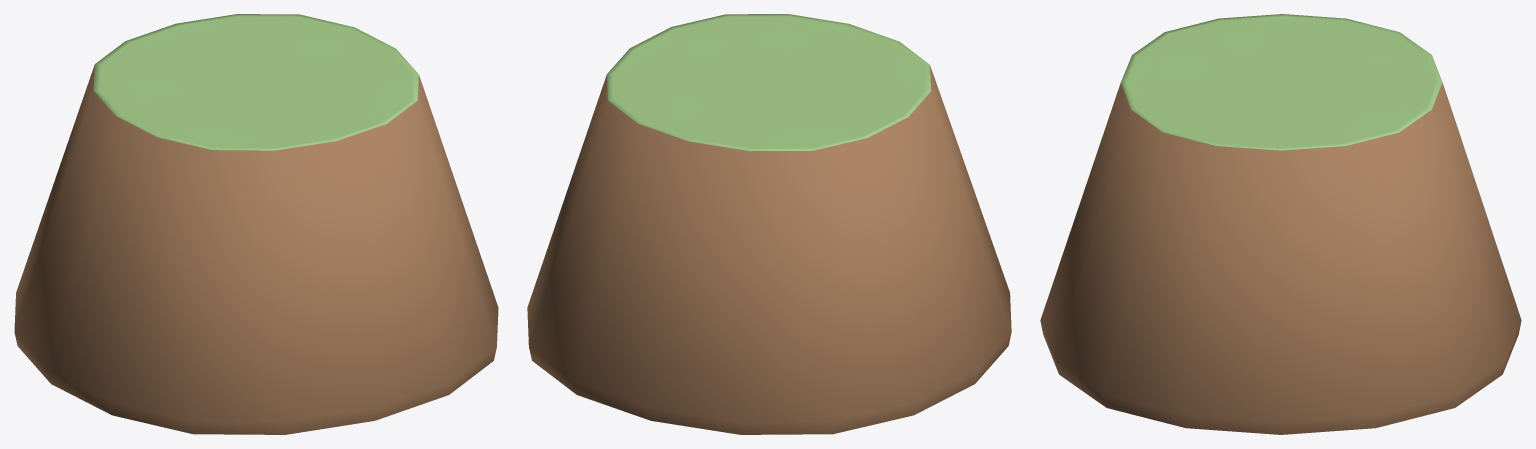
File: island_medium.glb
3 views of the same model, side by side, from view 1: azimuth 30°, elevation 25°; view 2: azimuth 150°, elevation 25°; view 3: azimuth 270°, elevation 25° (orthographic).
Parts seen in each view (by area): view 1: RockPlatforms_Medium; view 2: RockPlatforms_Medium; view 3: RockPlatforms_Medium.
Boxes of the visible parts, x1,y1,x2,y2 form: RockPlatforms_Medium: (14,14,498,434); RockPlatforms_Medium: (527,14,1011,434); RockPlatforms_Medium: (1040,14,1521,434).
Size of the model in its own units: 4.81 by 2.91 by 4.81.
